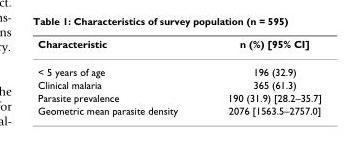table: (37, 37, 321, 116)
table column: (37, 37, 202, 116), (202, 37, 321, 116)
table column header: (37, 37, 321, 57)
table row: (37, 57, 321, 78), (37, 37, 321, 57), (37, 78, 321, 91), (37, 103, 321, 116), (37, 91, 321, 103)
